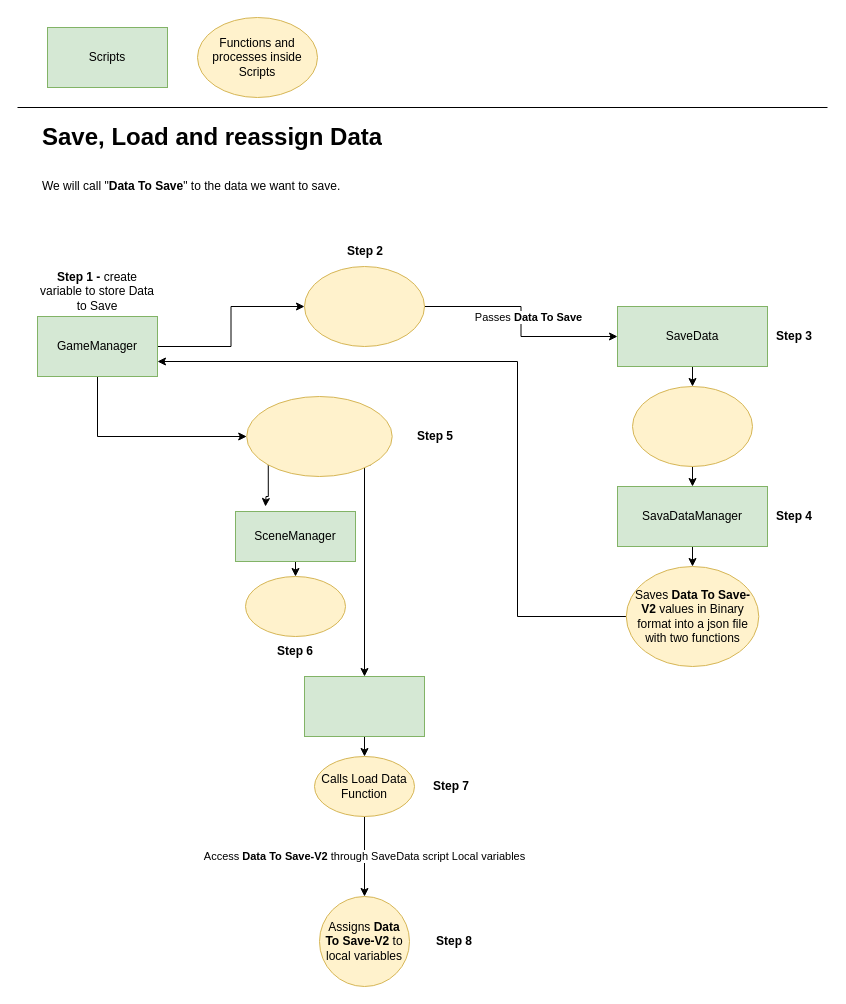
Some shapes in this 846 by 1004 pixel diagram are drawn without their labels. The shapes that lost their labels are listed below. From the top down, each one's centre as x and y in pixels, then its label:
(x=364, y=306): Saves Data To Save in local variables
(x=319, y=436): Calls through functions Save and Load functions
(x=692, y=426): Saves Data To Save in Local variables ( Data To Save-V2 )
(x=295, y=606): Calls Save Data Function
(x=364, y=706): LevelData
